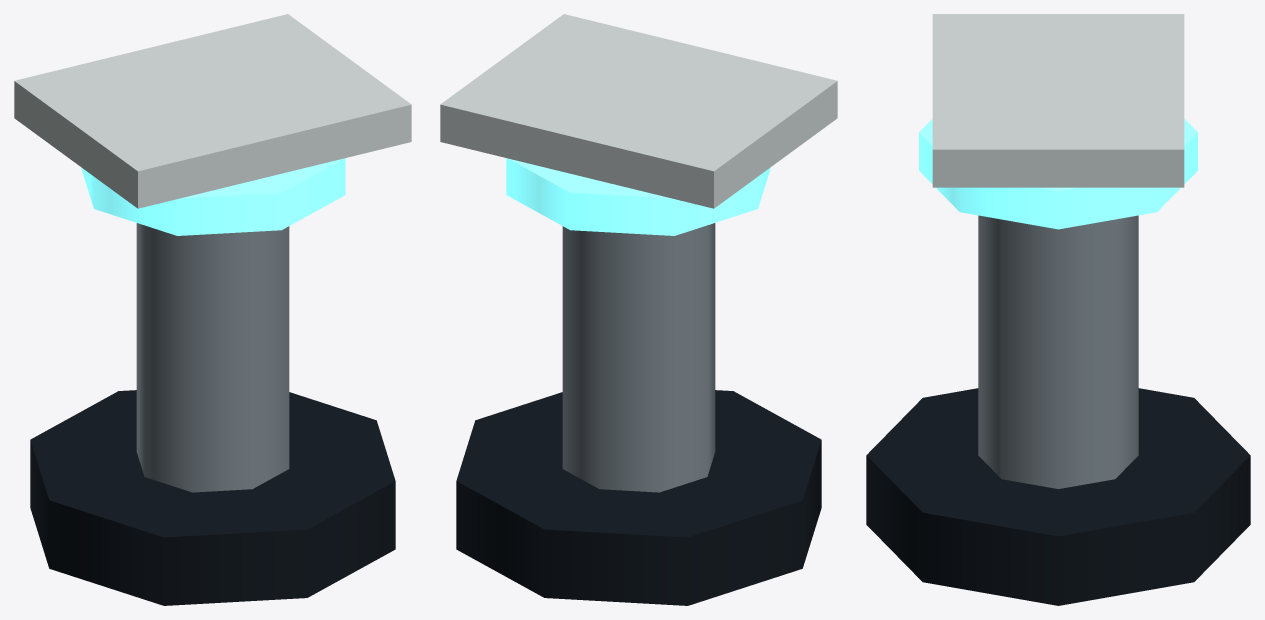
The model's file is np_z06_station_amelioration.glb.
3 views of the same model, side by side, from view 1: azimuth 30°, elevation 25°; view 2: azimuth 150°, elevation 25°; view 3: azimuth 270°, elevation 25° (orthographic).
Parts seen in each view (by area): view 1: Socle, Plateau, Colonne, Anneau; view 2: Socle, Plateau, Colonne, Anneau; view 3: Socle, Plateau, Colonne, Anneau.
Part boxes in pixels (x1,y1,x2,y2): Socle: (30, 390, 395, 605); Plateau: (14, 14, 411, 208); Colonne: (136, 223, 289, 492); Anneau: (81, 158, 345, 235); Socle: (456, 390, 821, 605); Plateau: (440, 14, 837, 208); Colonne: (562, 223, 715, 492); Anneau: (506, 158, 770, 235); Socle: (866, 388, 1250, 605); Plateau: (932, 14, 1184, 187); Colonne: (978, 215, 1138, 488); Anneau: (919, 119, 1197, 229).
Bounding box in the file's own units: 1.1 × 1.4 × 1.1.
